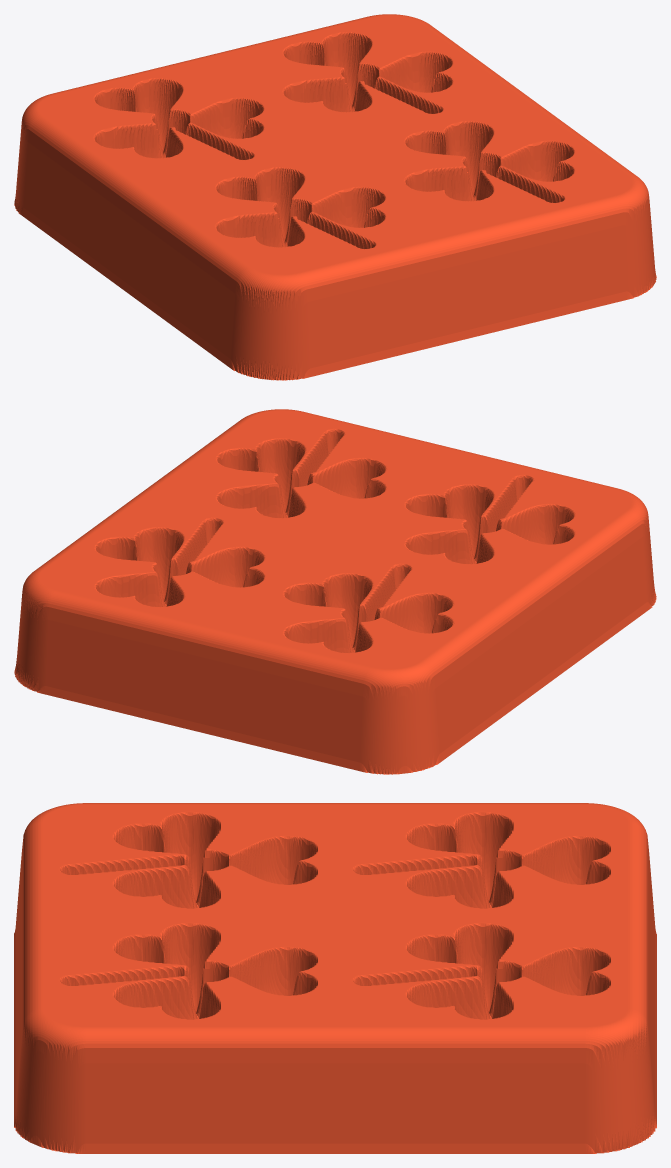
The model's file is mold.glb.
3 renders of one model, top to bottom at view 1: azimuth 30°, elevation 25°; view 2: azimuth 150°, elevation 25°; view 3: azimuth 270°, elevation 25°, orthographic. The views are drawn at different scales.
Parts seen in each view (by area): view 1: geometry_0; view 2: geometry_0; view 3: geometry_0.
Part boxes in pixels (<box>): geometry_0: <box>14,14,656,380</box>; geometry_0: <box>14,409,656,774</box>; geometry_0: <box>14,803,656,1153</box>.
Bounding box in the file's own units: 0.0732 × 0.0159 × 0.0808.
